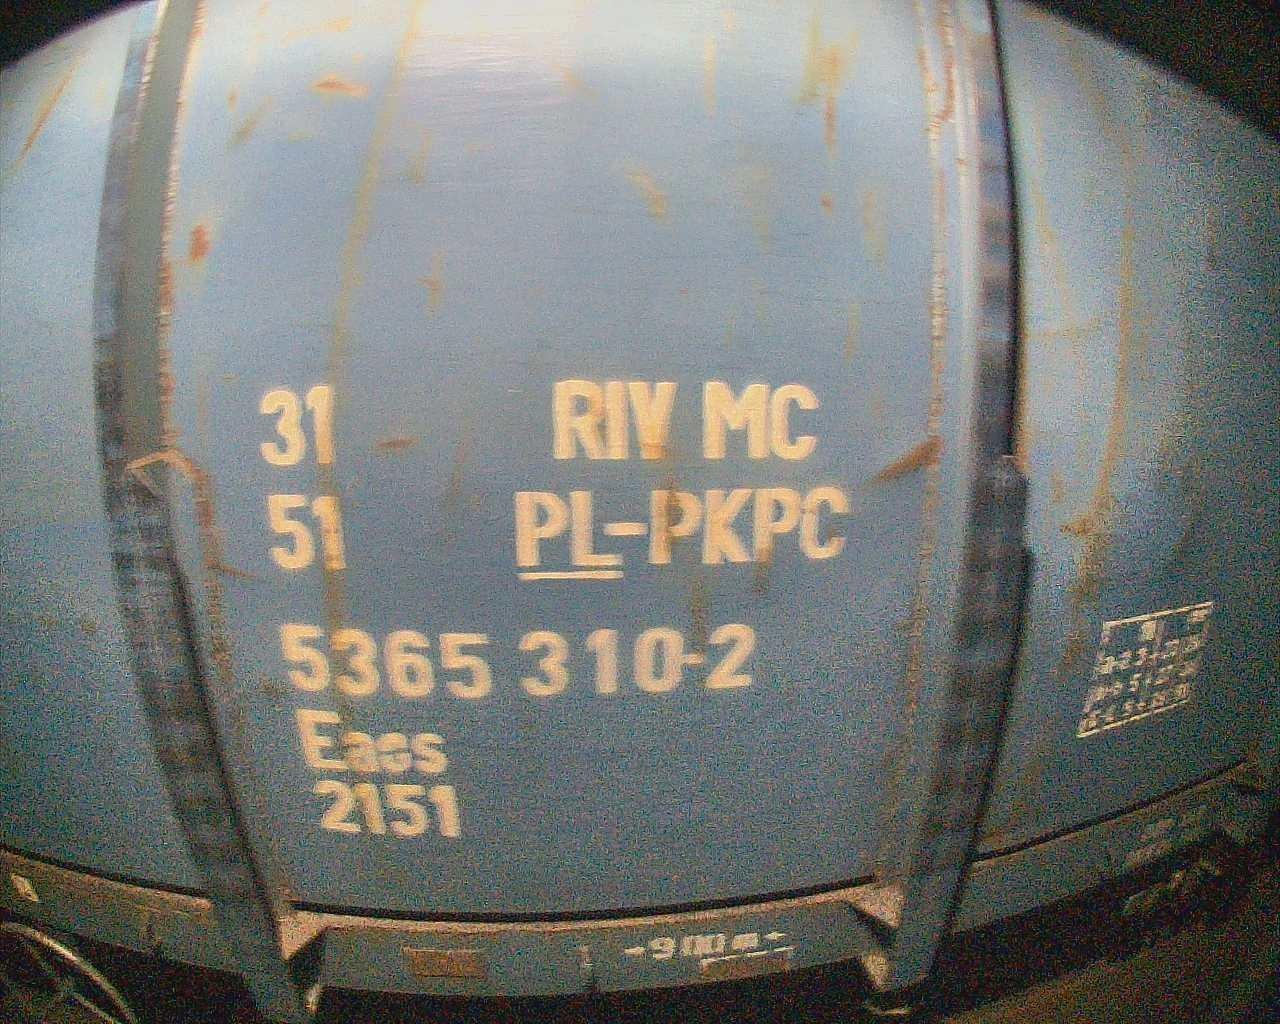UIC: (255, 378, 850, 839)
